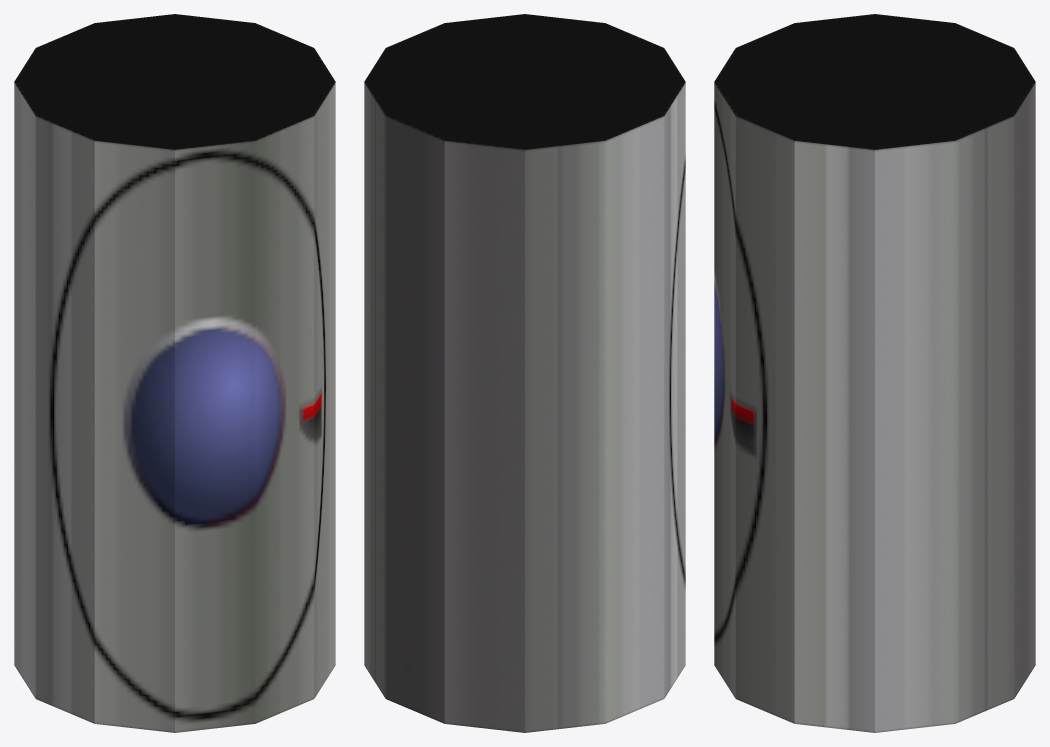
Rendered from escapepod.glb.
3 renders of one model, left to right at view 1: azimuth 30°, elevation 25°; view 2: azimuth 150°, elevation 25°; view 3: azimuth 270°, elevation 25°, orthographic.
Parts seen in each view (by area): view 1: Cylinder; view 2: Cylinder; view 3: Cylinder.
Boxes of the visible parts, left/top/right/bottom form: Cylinder: left=14, top=14, right=335, bottom=732; Cylinder: left=364, top=14, right=685, bottom=732; Cylinder: left=714, top=14, right=1035, bottom=732.
Bounding box in the file's own units: 1 × 2 × 1.
1 material, 1 textured.
